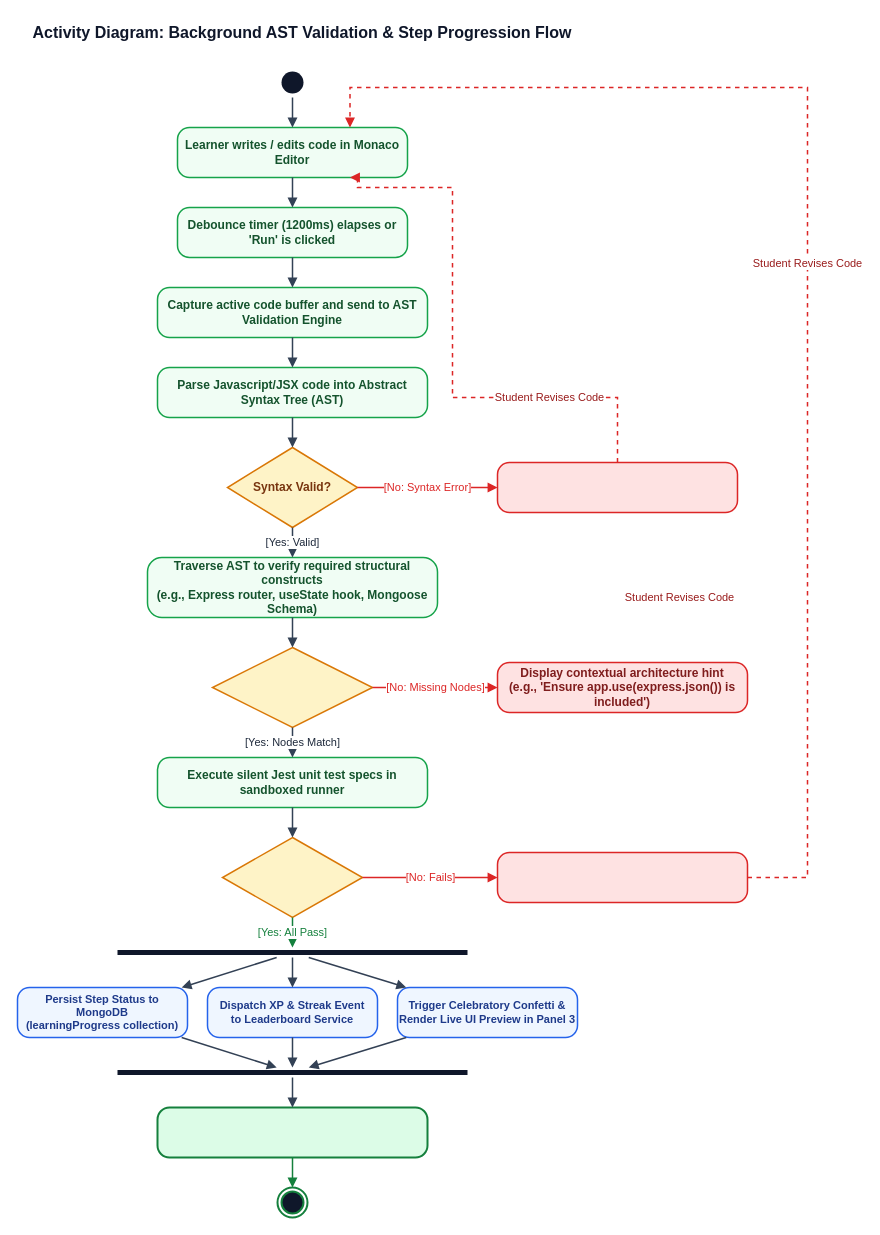
Some shapes in this 880 by 1235 pixel diagram are drawn without their labels. The centre of each missing label's shape, as x and y in pixels:
All Unit Tests Pass?: (292,877)
Highlight line errors with red markers in Monaco & display syntax tip: (617,487)
Output assertion diff report to console panel; Keep next step strictly locked: (622,877)
Required AST Constructs Present?: (292,687)
Unlock Next Step in Tri-Panel Navigation & Load Next Instructions: (292,1132)
